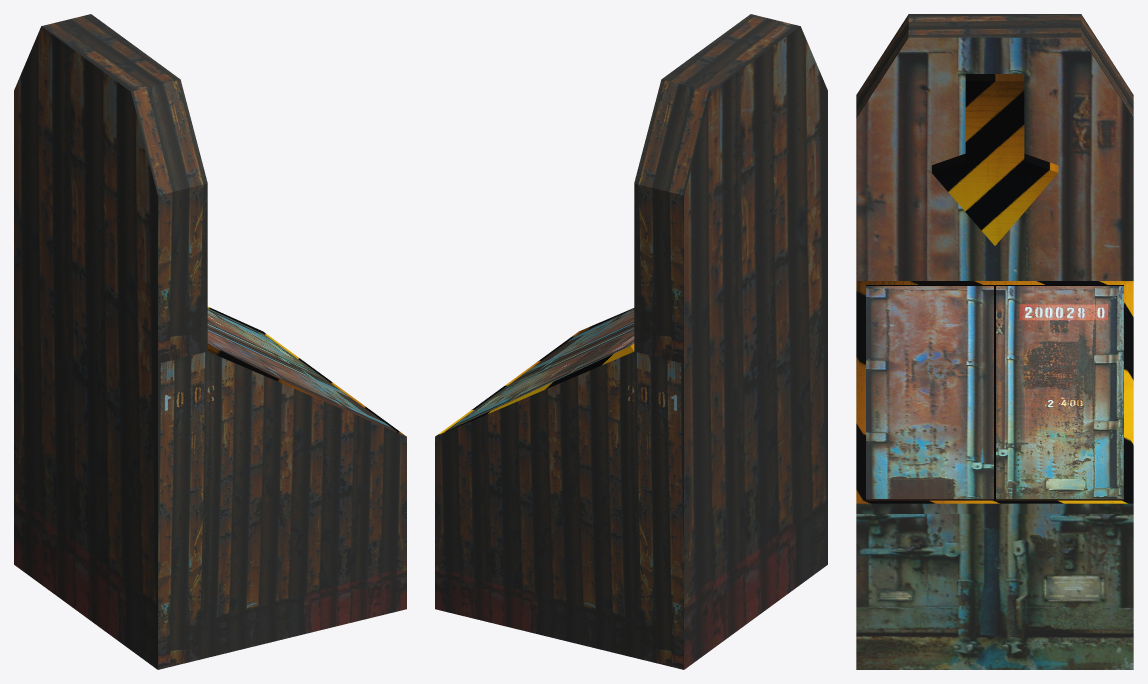
Rendered from DropPod.fbx.
3 renders of one model, left to right at view 1: azimuth 30°, elevation 25°; view 2: azimuth 150°, elevation 25°; view 3: azimuth 270°, elevation 25°, orthographic. The views are drawn at different scales.
Visible parts, largest first — view 1: DropPod, doorL, doorR; view 2: DropPod, doorR, doorL; view 3: DropPod, doorL, doorR.
Part boxes in pixels (<box>): DropPod: <box>14,14,406,669</box>; doorL: <box>207,327,396,432</box>; doorR: <box>207,308,329,382</box>; DropPod: <box>435,14,827,669</box>; doorR: <box>445,327,634,431</box>; doorL: <box>512,308,634,382</box>; DropPod: <box>856,14,1133,669</box>; doorL: <box>866,286,993,500</box>; doorR: <box>996,286,1123,500</box>.
Size of the model in its own units: 0.8411 by 0.8411 by 1.8.
